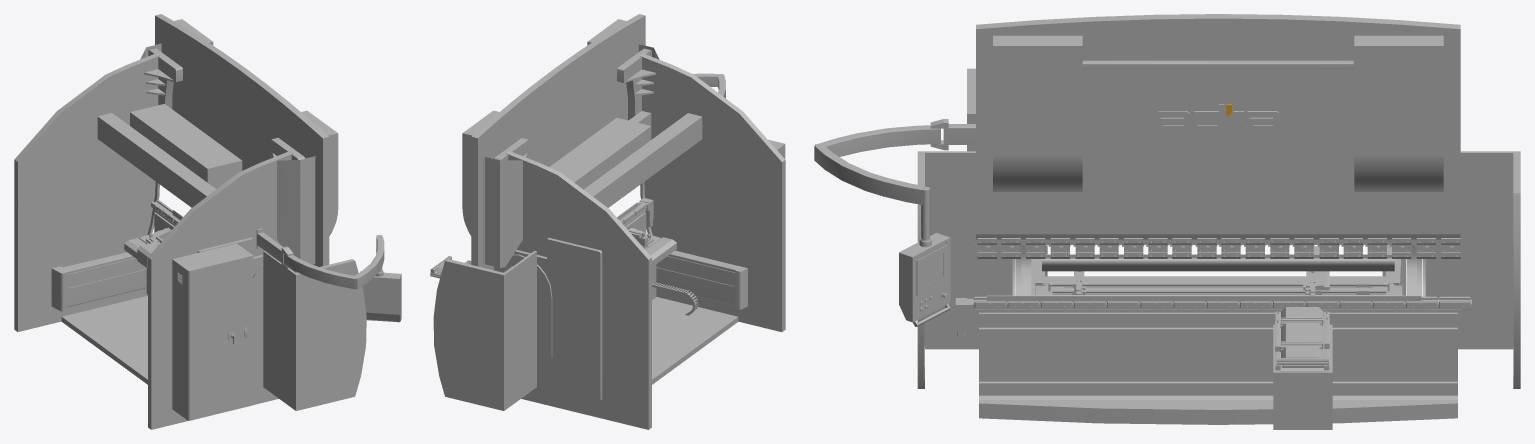
3 views of the same model, side by side, from view 1: azimuth 30°, elevation 25°; view 2: azimuth 150°, elevation 25°; view 3: azimuth 270°, elevation 25° (orthographic). The views are drawn at different scales.
Parts seen in each view (by area): view 1: PH40040_R_Wall, PH40040_L_wall, PH40040_Top, PH40040_locker, PH40040_MiddleStructure, PH40040_InsideShields, PH40040_PA_PC, PH40040_Arm2, PH40040_Arm3, PH40040_Arm1, PH40040_DownStruct; view 2: PH40040_L_wall, PH40040_R_Wall, PH40040_Top, PH40040_MiddleStructure, PH40040_InsideShields, PH40040_BackSliderSupport, PH40040_DownStruct, PH40040_Belt; view 3: PH40040_Top, PH40040_DownStruct, PH40040_L_wall, PH40040_R_Wall, PH40040_TopQuad, PH40040_Puncture, PH40040_Slider, PH40040_FrontMovable, PH40040_PA_PC, PH40040_DownQuads, PH40040_FrontTable, PH40040_Arm3 (+6 smaller).
Part boxes in pixels (x1,y1,x2,y2): PH40040_R_Wall: (148, 137, 366, 429); PH40040_L_wall: (14, 43, 182, 331); PH40040_Top: (155, 14, 338, 266); PH40040_locker: (172, 243, 253, 420); PH40040_MiddleStructure: (61, 104, 242, 384); PH40040_InsideShields: (51, 252, 146, 311); PH40040_PA_PC: (360, 271, 401, 322); PH40040_Arm2: (284, 254, 357, 289); PH40040_Arm3: (355, 235, 384, 289); PH40040_Arm1: (256, 228, 293, 268); PH40040_DownStruct: (151, 201, 179, 232); PH40040_L_wall: (433, 138, 651, 429); PH40040_R_Wall: (617, 43, 785, 331); PH40040_Top: (462, 14, 645, 270); PH40040_MiddleStructure: (549, 111, 738, 384); PH40040_InsideShields: (656, 250, 747, 309); PH40040_BackSliderSupport: (646, 237, 676, 299); PH40040_DownStruct: (620, 197, 653, 232); PH40040_Belt: (652, 282, 698, 315); PH40040_Top: (976, 14, 1460, 244); PH40040_DownStruct: (955, 298, 1471, 424); PH40040_L_wall: (1407, 151, 1520, 388); PH40040_R_Wall: (917, 151, 1031, 388); PH40040_TopQuad: (975, 238, 1461, 258); PH40040_Puncture: (1042, 254, 1394, 271); PH40040_Slider: (1036, 282, 1402, 295); PH40040_FrontMovable: (1273, 324, 1332, 429); PH40040_PA_PC: (899, 233, 950, 326); PH40040_DownQuads: (974, 296, 1470, 307); PH40040_FrontTable: (1275, 307, 1329, 370); PH40040_Arm3: (814, 144, 931, 247).
Size of the model in its own units: 347 by 363 by 590.
